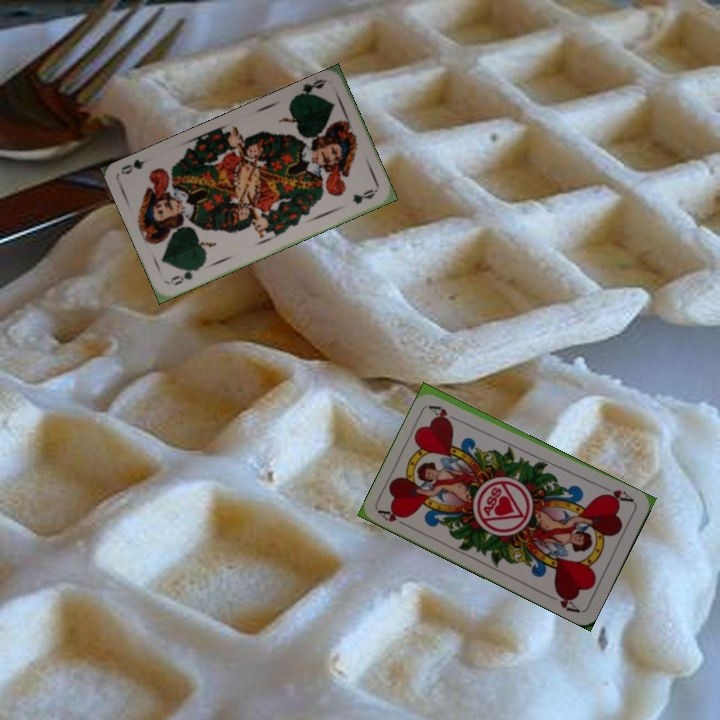GO: (166, 262, 203, 288), (291, 75, 328, 99)
HA: (375, 505, 413, 531), (598, 482, 636, 505)
